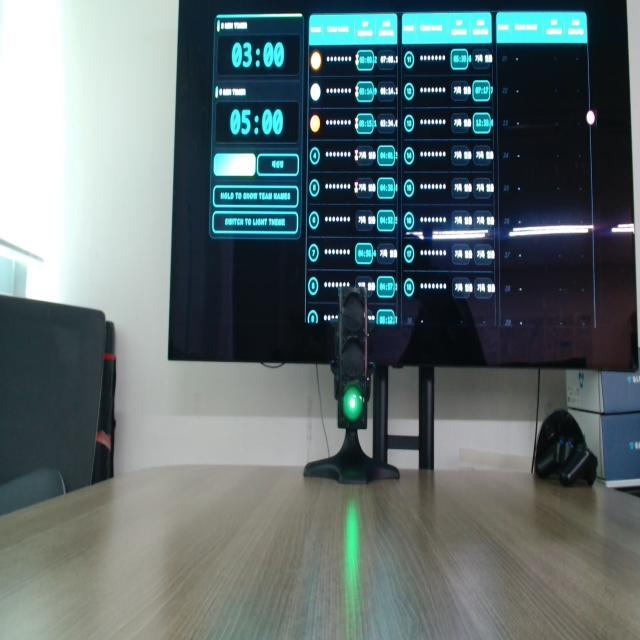green_light: (343, 384, 364, 422)
